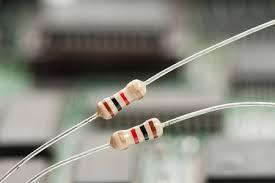resistor: (97, 79, 146, 119), (111, 118, 164, 151)
